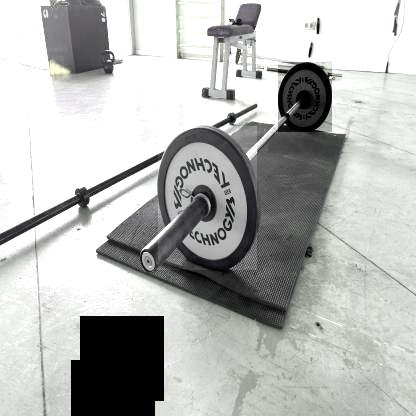barbell: (158, 128, 257, 271), (278, 62, 333, 132)
